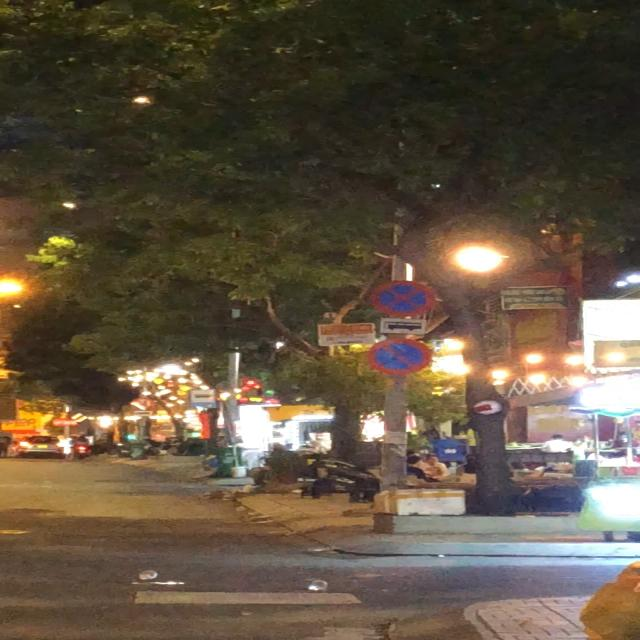Bien bao cam do xe: (366, 337, 435, 377)
Bien bao cam dung xe va do xe: (366, 279, 435, 319)
